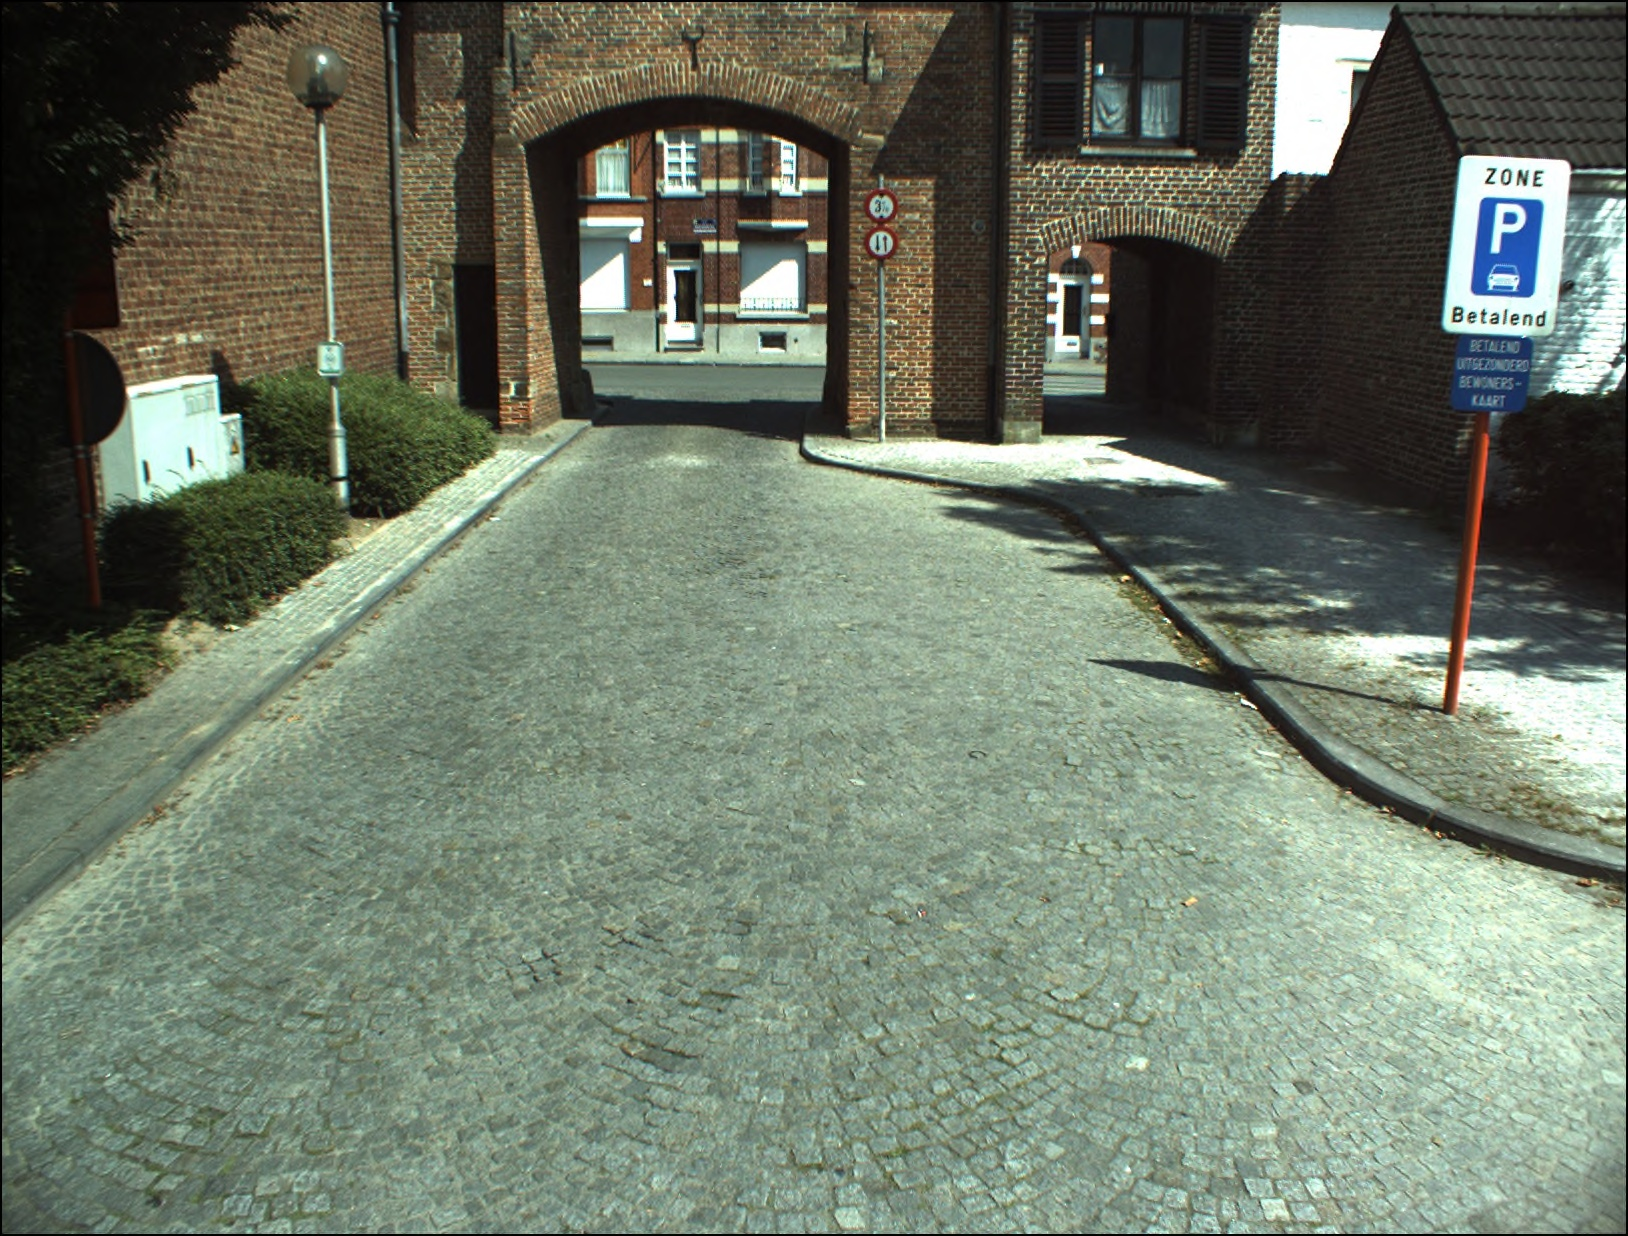parking: (1479, 197, 1535, 299)
roadnarrow2: (861, 226, 897, 257)
